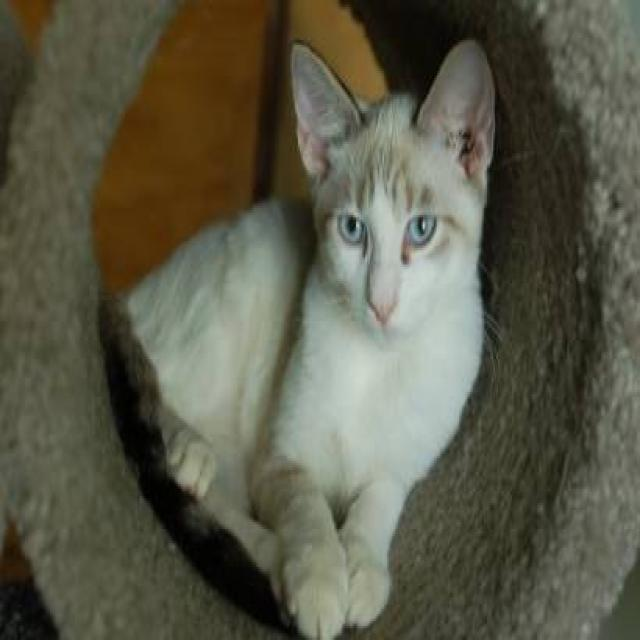cat: (95, 33, 498, 638)
